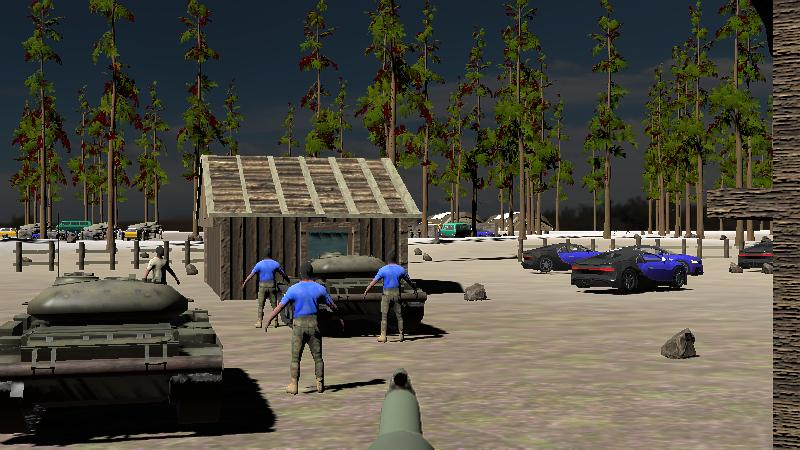House: (195, 153, 422, 300)
Human: (264, 260, 345, 396), (364, 247, 420, 344), (241, 246, 291, 329), (242, 248, 291, 327), (142, 246, 181, 288)
Tank: (0, 270, 225, 433), (288, 250, 424, 336)
car: (569, 245, 698, 295), (520, 239, 610, 275), (737, 239, 777, 269), (438, 221, 473, 240), (57, 219, 91, 237), (123, 224, 150, 242), (474, 223, 500, 238), (0, 226, 18, 241)
